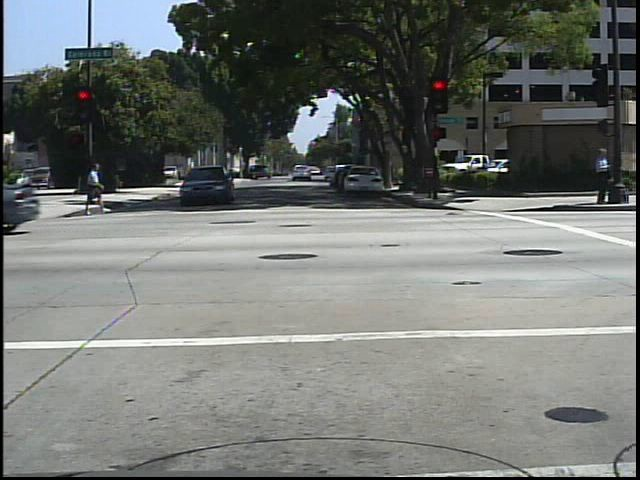person: (590, 143, 617, 208), (81, 158, 109, 210)
